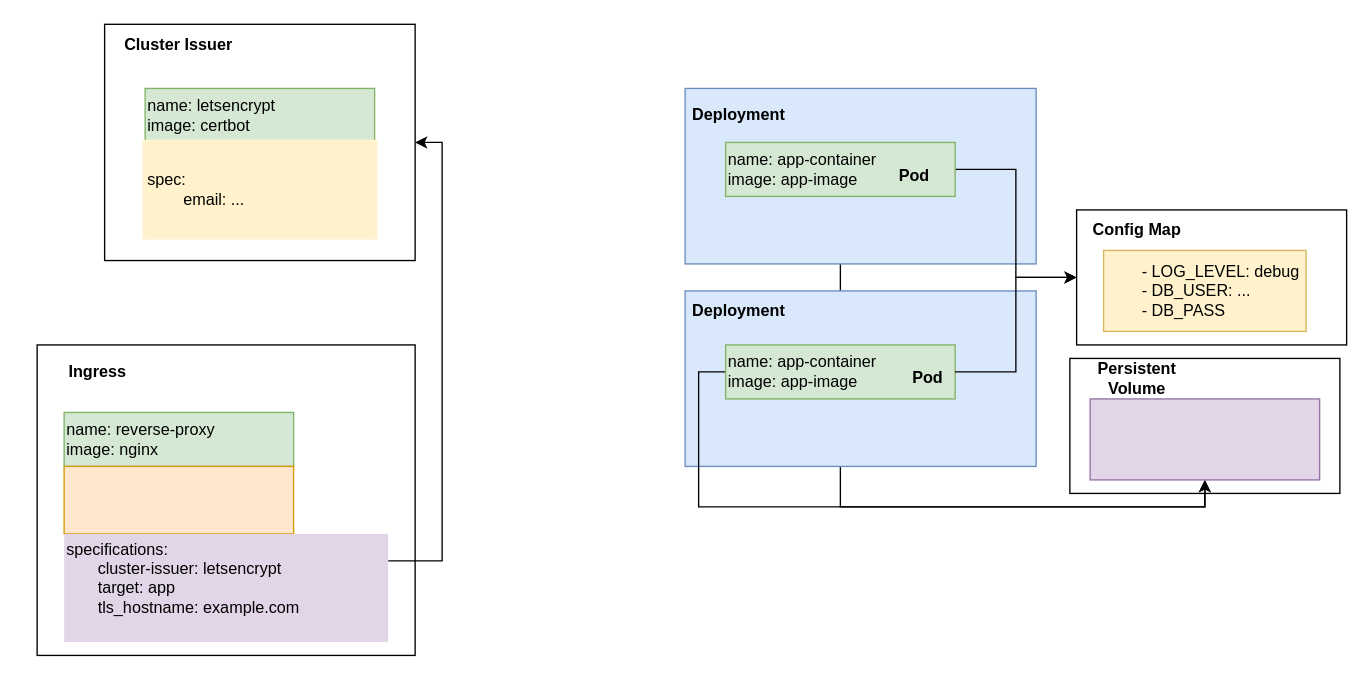
Some shapes in this 1370 by 679 pixel diagram are drawn without their labels. Here are the shapes that lost their labels. From the top down, the centre of each, then its label:
At [1204,439]: "volumes: - ./data/:/app/data".
At [178,499]: "ports: - 443:443 - 80: 80".
